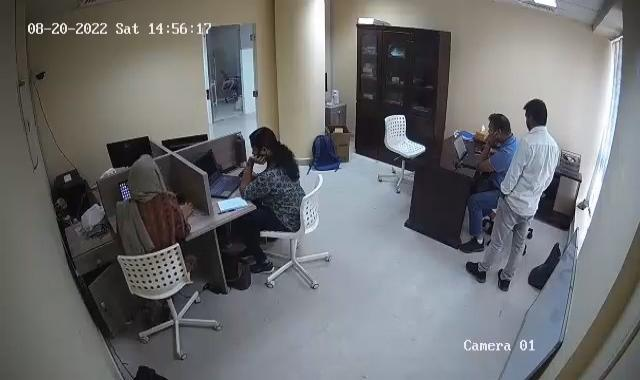no_hairnet: (248, 123, 282, 168), (127, 153, 161, 195), (524, 98, 551, 133), (482, 114, 513, 144)
